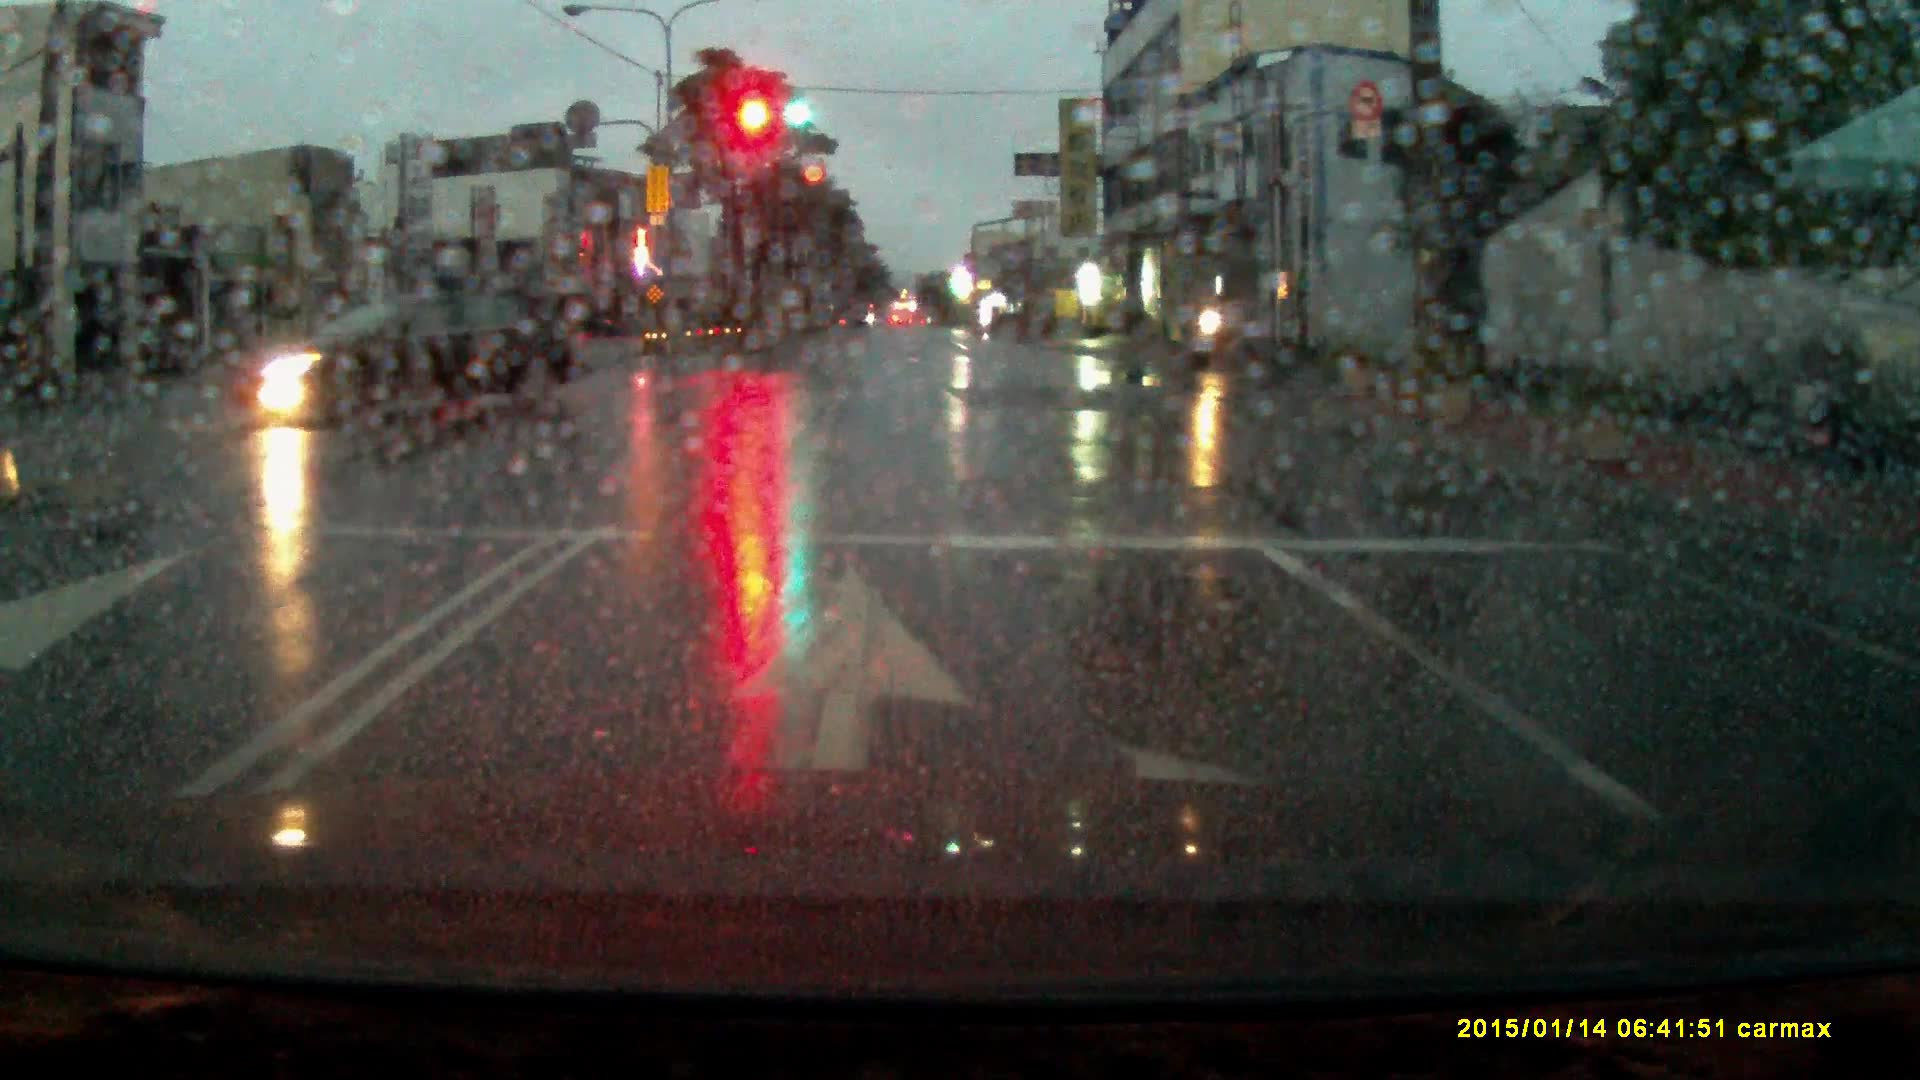rider: (1174, 283, 1262, 372)
vehicle: (240, 290, 590, 429)
